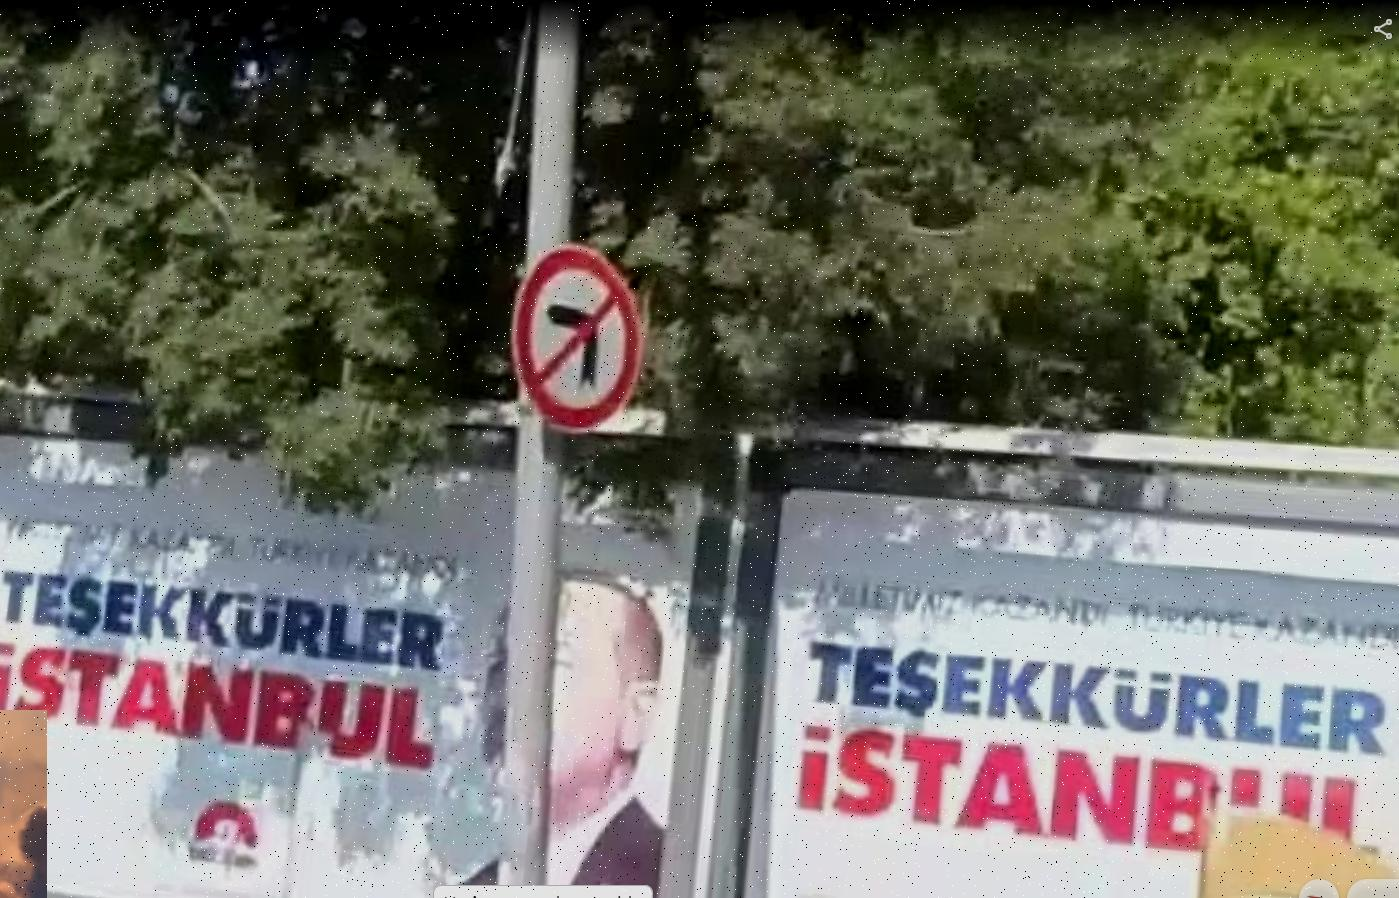leftturnsareforbidden: (508, 244, 644, 426)
